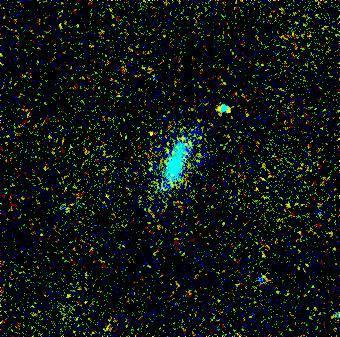star: (239, 177, 269, 207)
